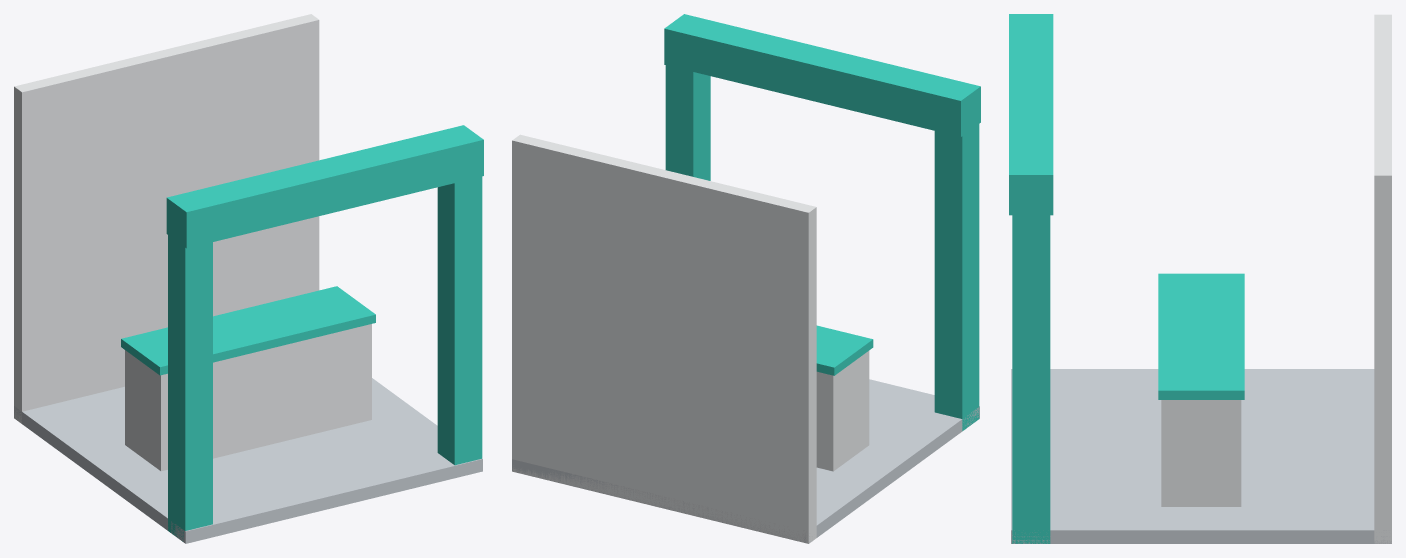
3 renders of one model, left to right at view 1: azimuth 30°, elevation 25°; view 2: azimuth 150°, elevation 25°; view 3: azimuth 270°, elevation 25°, orthographic. The views are drawn at different scales.
Visible parts, largest first — view 1: Exhibition Booth Concept; view 2: Exhibition Booth Concept; view 3: Exhibition Booth Concept.
Part boxes in pixels (x1,y1,x2,y2): Exhibition Booth Concept: [14, 14, 483, 543]; Exhibition Booth Concept: [512, 14, 980, 543]; Exhibition Booth Concept: [1009, 14, 1391, 543].
Bounding box in the file's own units: 3 × 3.2 × 3.01.
